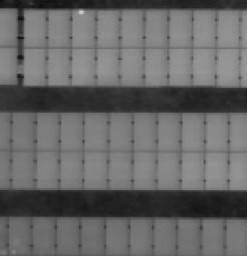solar: (4, 213, 33, 256), (29, 213, 58, 256), (53, 213, 82, 256), (79, 213, 108, 256), (102, 213, 131, 256), (126, 213, 155, 256), (150, 213, 179, 256), (174, 213, 203, 256), (199, 213, 228, 256), (21, 6, 50, 48), (45, 6, 74, 48), (69, 6, 98, 48), (93, 6, 122, 48), (117, 6, 146, 48), (141, 6, 170, 48), (166, 6, 195, 48), (189, 7, 218, 49), (214, 7, 243, 49), (213, 45, 242, 87), (189, 45, 218, 87), (166, 45, 195, 87), (141, 45, 170, 87), (116, 45, 145, 87), (93, 45, 122, 87), (69, 45, 98, 87), (44, 44, 73, 86), (21, 44, 50, 86), (9, 110, 38, 152), (33, 110, 62, 152), (57, 110, 86, 152), (82, 110, 111, 152), (106, 110, 135, 152), (130, 111, 159, 153), (154, 111, 183, 153), (178, 111, 207, 153), (202, 111, 231, 153), (202, 149, 231, 191), (177, 149, 206, 191), (154, 149, 183, 191), (130, 149, 159, 191), (105, 149, 134, 191), (80, 149, 109, 191), (56, 149, 85, 191), (32, 149, 61, 191), (8, 149, 37, 191)
